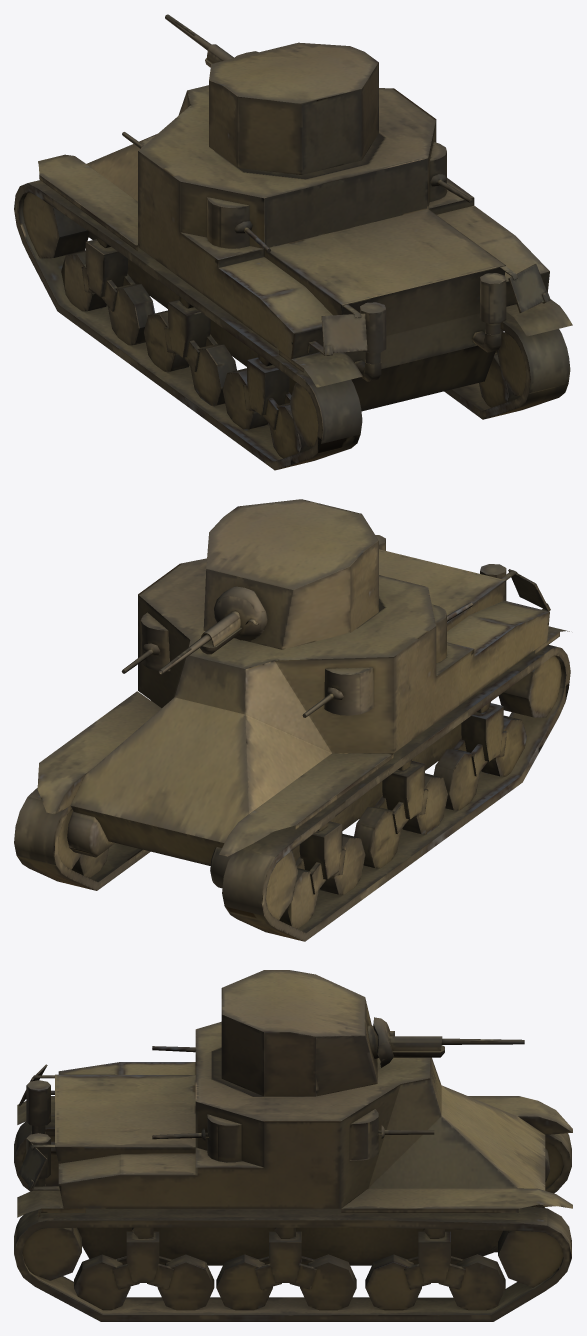
The picture shows the model from 3 angles, top to bottom: view 1: azimuth 30°, elevation 25°; view 2: azimuth 150°, elevation 25°; view 3: azimuth 270°, elevation 25°; orthographic projection. The views are drawn at different scales.
Parts seen in each view (by area): view 1: M2 Hull, M2 Turret; view 2: M2 Hull, M2 Turret; view 3: M2 Hull, M2 Turret.
Boxes of the visible parts, x1,y1,x2,y2 form: M2 Hull: (14,85,572,470); M2 Turret: (165,14,378,174); M2 Hull: (14,535,570,941); M2 Turret: (158,499,378,674); M2 Hull: (14,1021,572,1321); M2 Turret: (221,970,524,1096).
Bounding box in the file's own units: 2.9 × 3.19 × 6.06.
